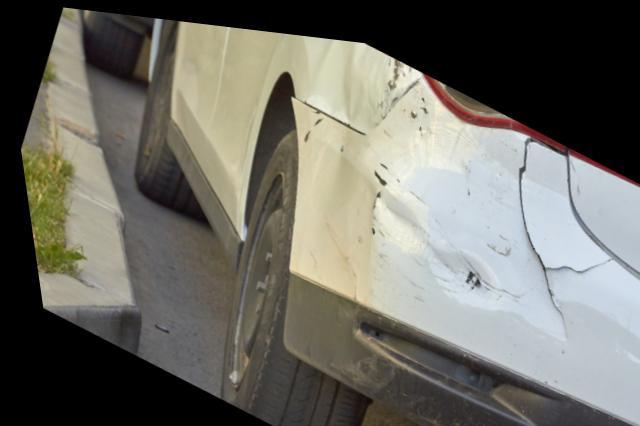crack: (515, 124, 608, 331)
dent: (367, 179, 492, 297), (306, 31, 392, 124)
scratch: (366, 75, 511, 256), (344, 212, 416, 311)
